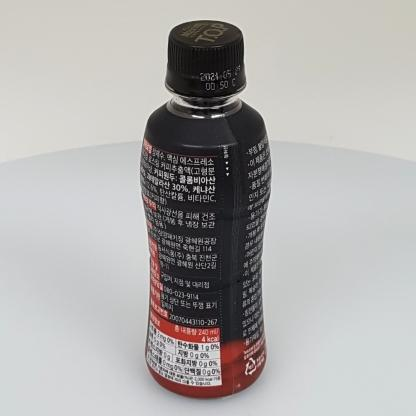--TOP--------240ML: (139, 19, 272, 401)
